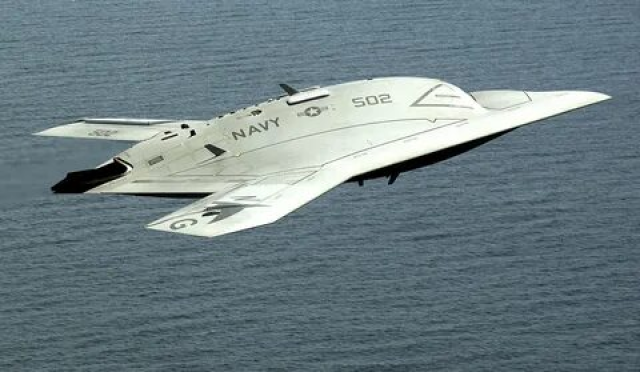military drone: (30, 75, 612, 238)
